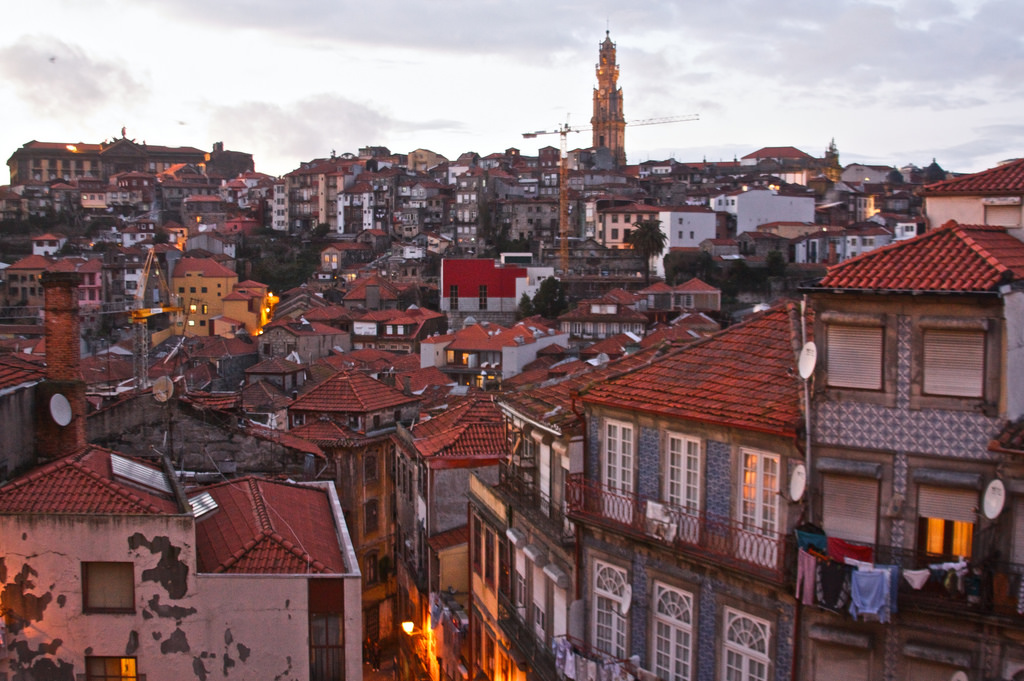clerigos: (590, 18, 629, 170)
